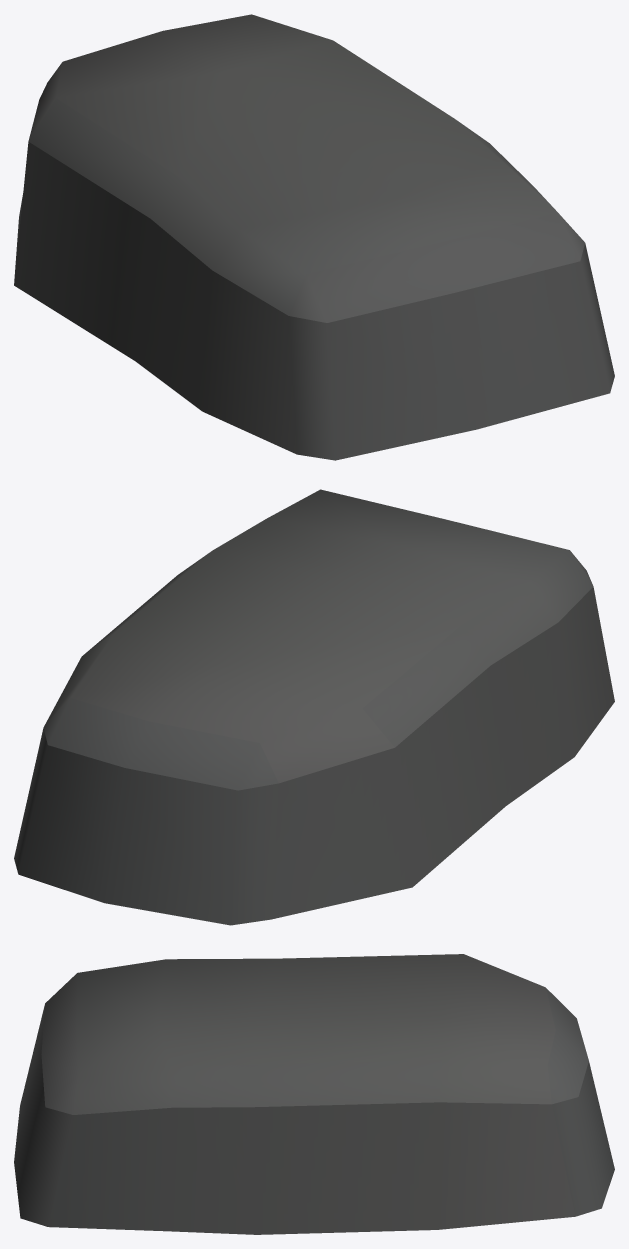
The model's file is Brick_5_1.glb.
3 views of the same model, one above another, from view 1: azimuth 30°, elevation 25°; view 2: azimuth 150°, elevation 25°; view 3: azimuth 270°, elevation 25° (orthographic). The views are drawn at different scales.
Parts seen in each view (by area): view 1: Brick_5_1; view 2: Brick_5_1; view 3: Brick_5_1.
Boxes of the visible parts, x1,y1,x2,y2 form: Brick_5_1: (14,14,614,460); Brick_5_1: (14,489,614,925); Brick_5_1: (14,954,614,1234).
Bounding box in the file's own units: 0.1515 × 0.0674 × 0.2489.
Materials: 1 (1 with a texture image).
